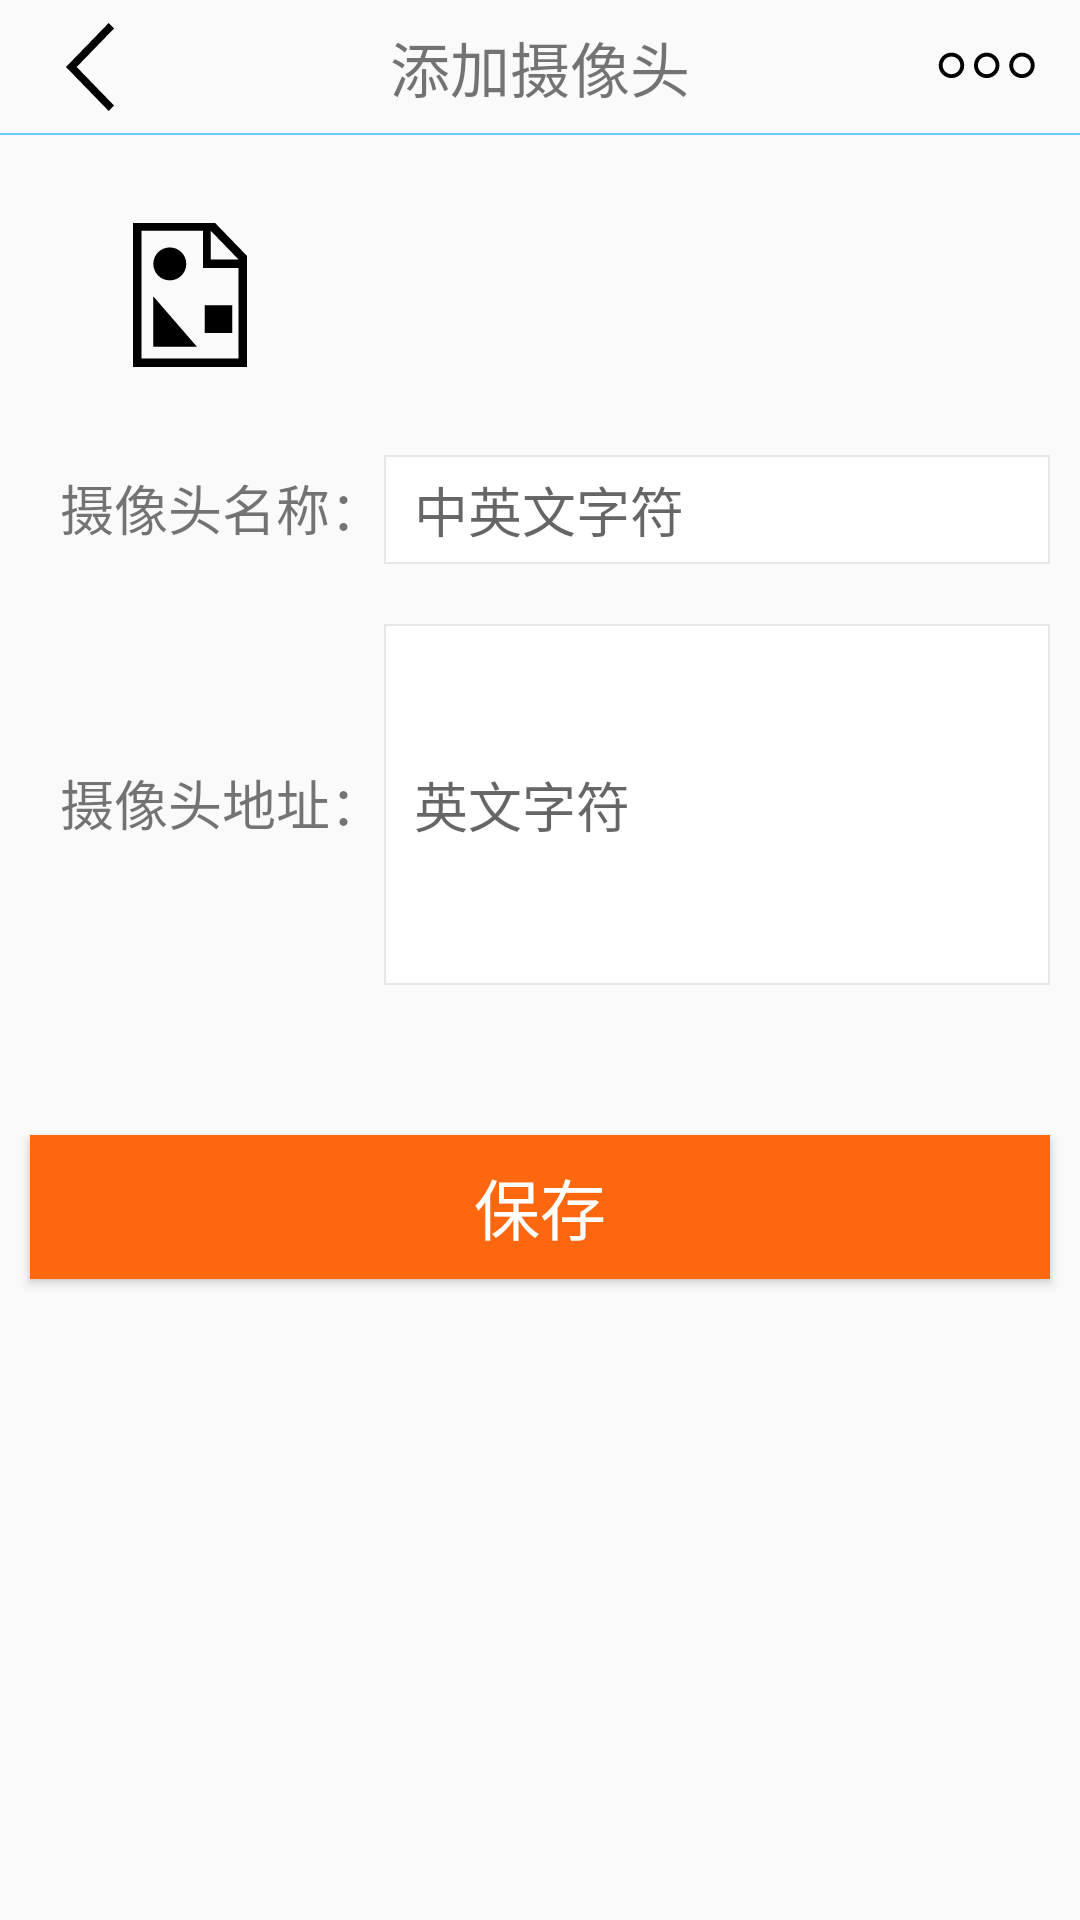

Screen size 1080w x 1920h. Icon name, then its box in pixels as (x1, y1, x2, y2):
back: (66, 23, 114, 111)
more: (938, 52, 1035, 78)
